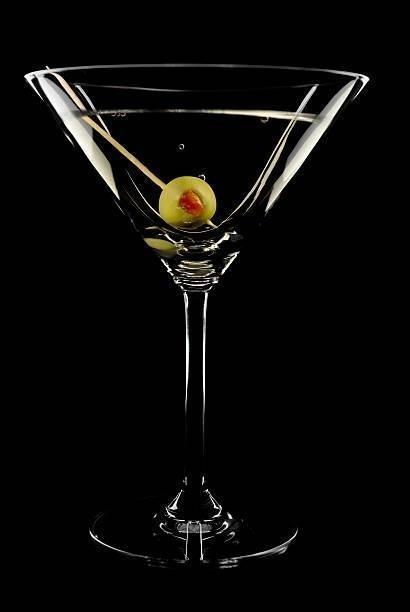glass-wine: (29, 57, 369, 571)
